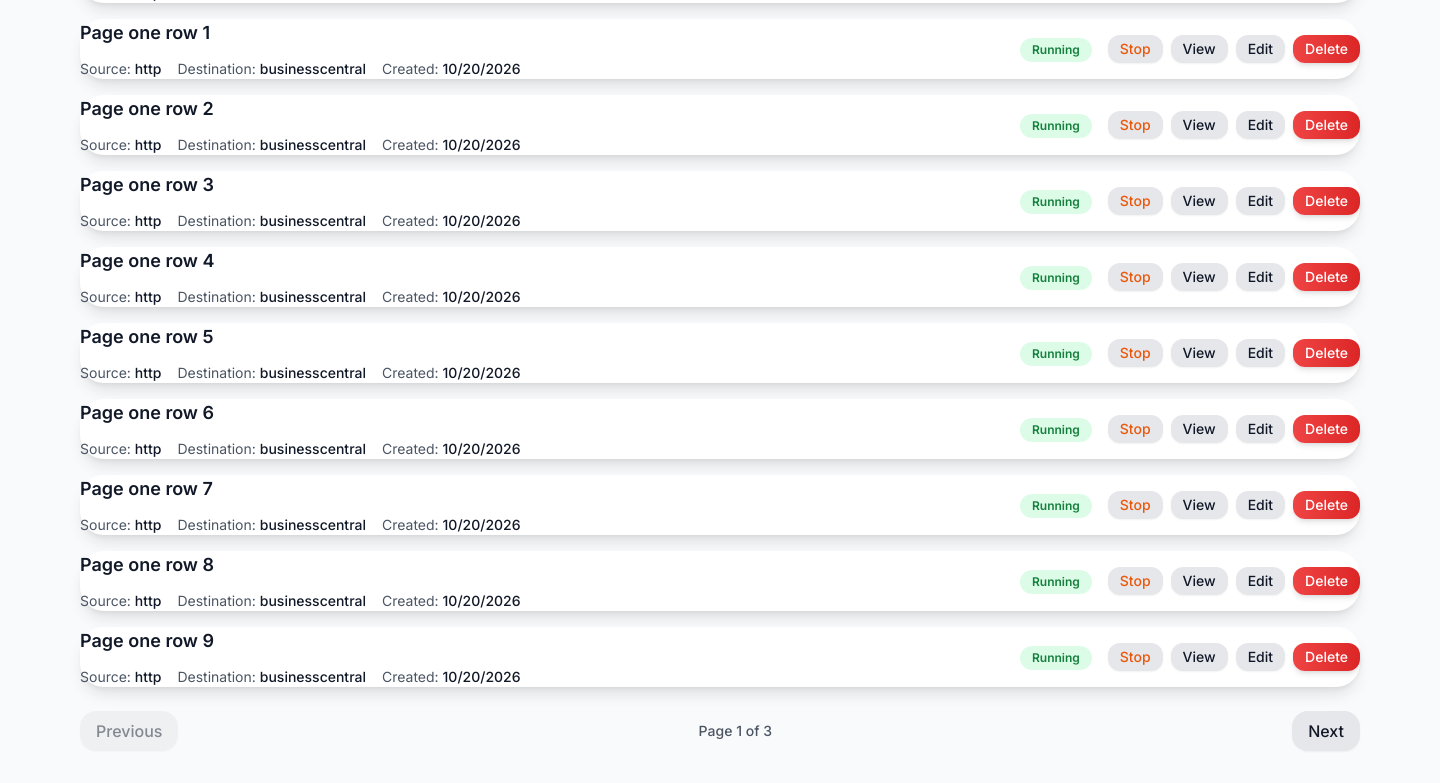
Test: ConnectionsList workspace switch race (#501) › keeps the skeleton up when a skipped page answers while a later page loads
This screenshot has width=1440, height=783.
(page scrolled)
Expected: the text "Page 1 of 3" is shown, 699,721 -> 772,741
Click the button "Next". click: x=1326, y=731
box: 1292,711 -> 1360,751
(page scrolled)
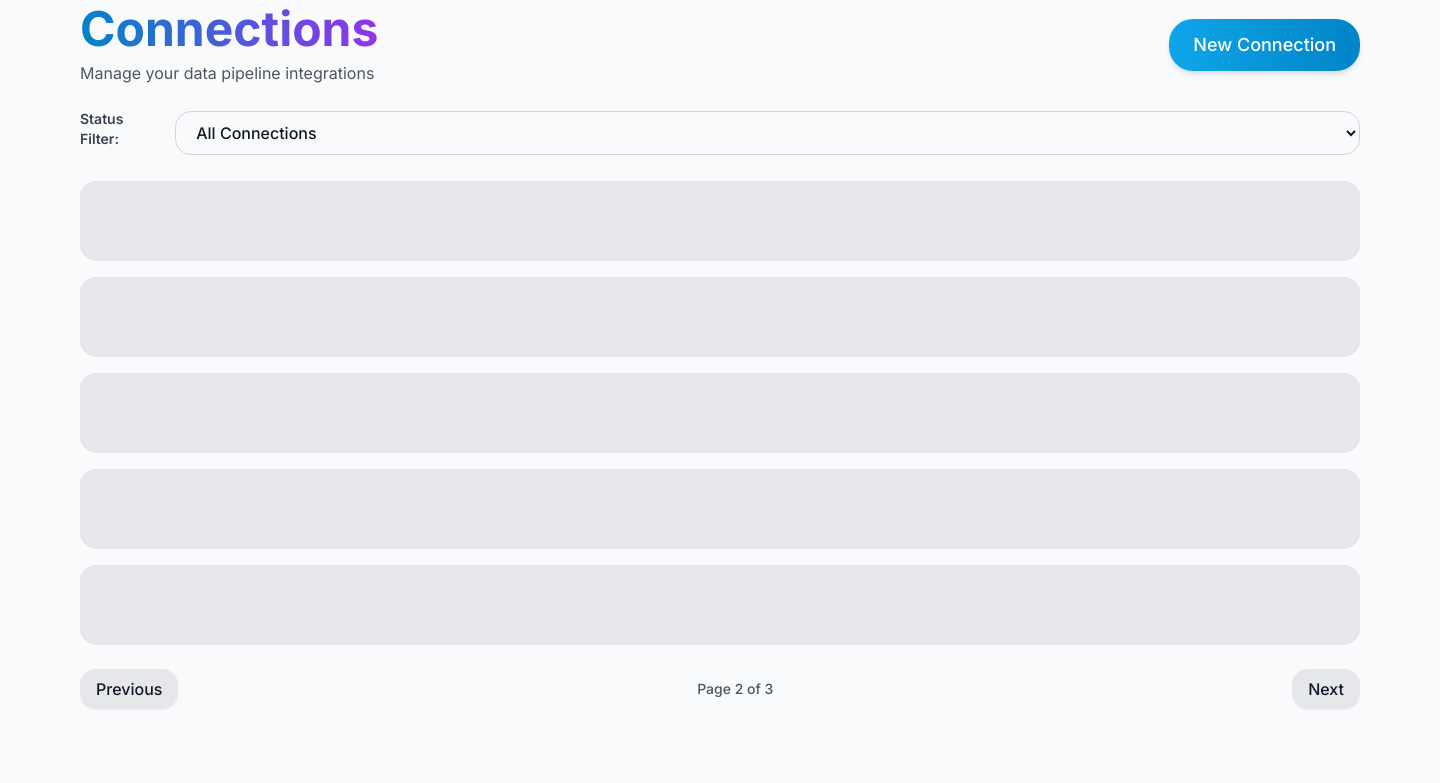
Click the button "Next". click: x=1326, y=689
box: 1292,669 -> 1360,709
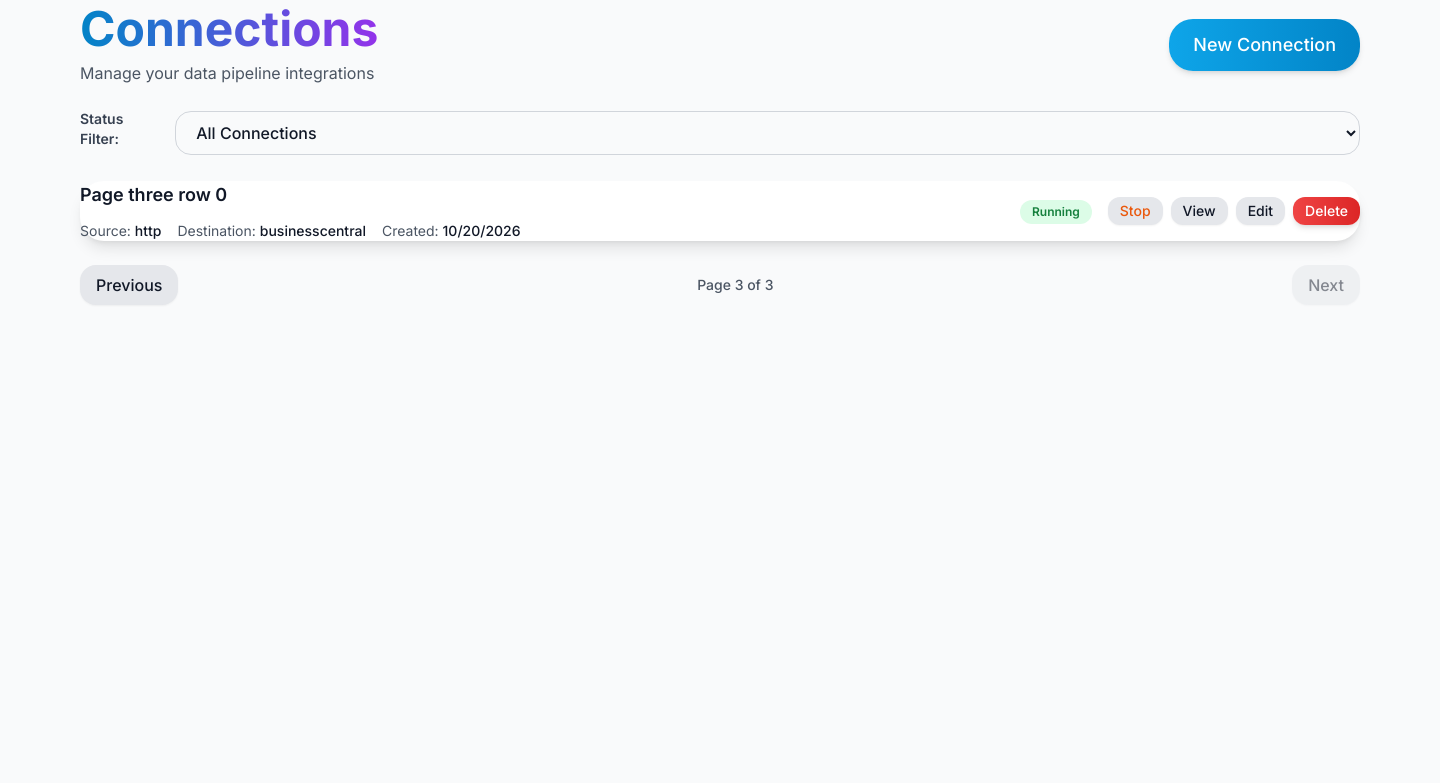
Result: the text "Page 3 of 3" is shown at 697,275 -> 773,295
Result: the heading "Page three row 0" is shown at 80,184 -> 227,205
